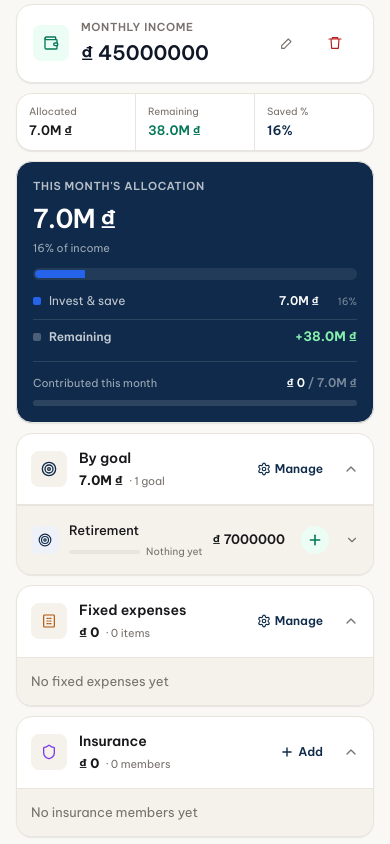
Test: MobilePlanningView — recurring savings in By goal › renders a recurring saving under its goal and includes it in the planned total
Check: the text "₫ 7000000" is shown, box [213, 530, 285, 550]
Note: Expand the Retirement goal — recurring saving name becomes visible
Click the text "Retirement" at {"x": 104, "y": 530}, box [69, 522, 139, 538]
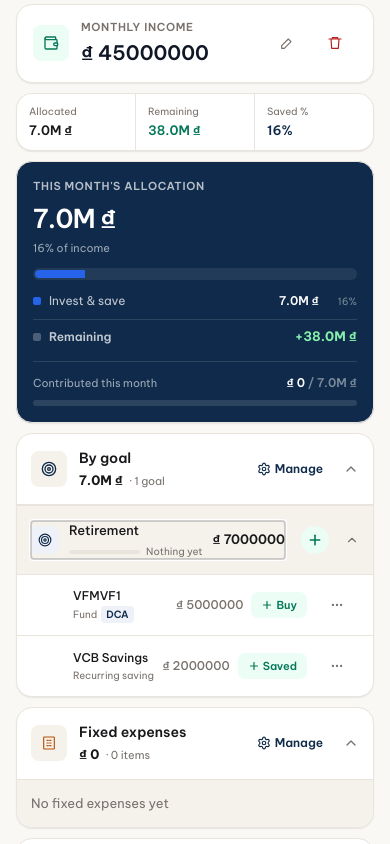
Check: the text "VCB Savings" is shown, box [73, 649, 154, 667]
